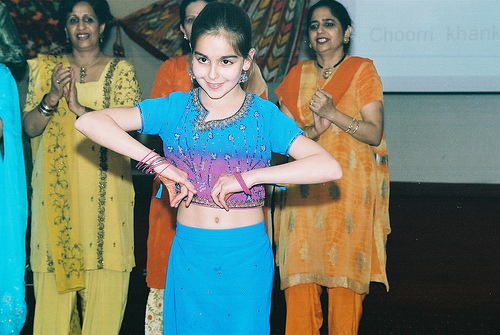without_mask: (190, 17, 258, 104), (301, 3, 361, 62), (57, 1, 111, 56), (175, 3, 221, 48)
